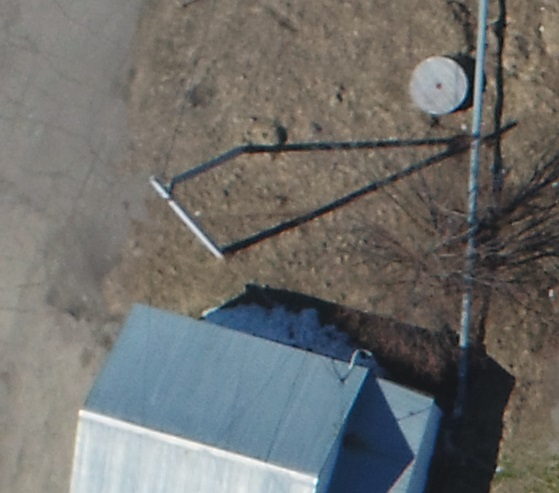opora: (145, 129, 296, 262)
